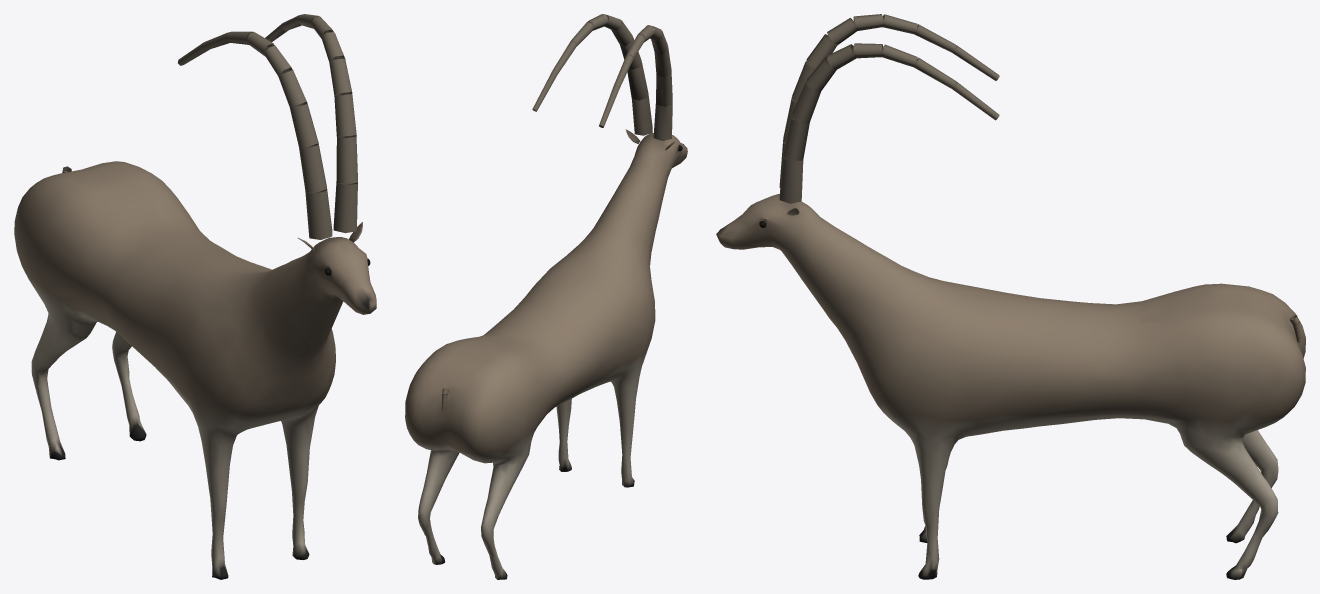
Rendered from steinbock.glb.
3 views of the same model, side by side, from view 1: azimuth 30°, elevation 25°; view 2: azimuth 150°, elevation 25°; view 3: azimuth 270°, elevation 25° (orthographic). The views are drawn at different scales.
Visible parts, largest first — view 1: lack; view 2: lack; view 3: lack.
Part boxes in pixels (x1,y1,x2,y2): lack: (14,14,376,579); lack: (405,14,687,579); lack: (716,14,1305,579).
Bounding box in the file's own units: 0.4542 × 1.75 × 1.77.
